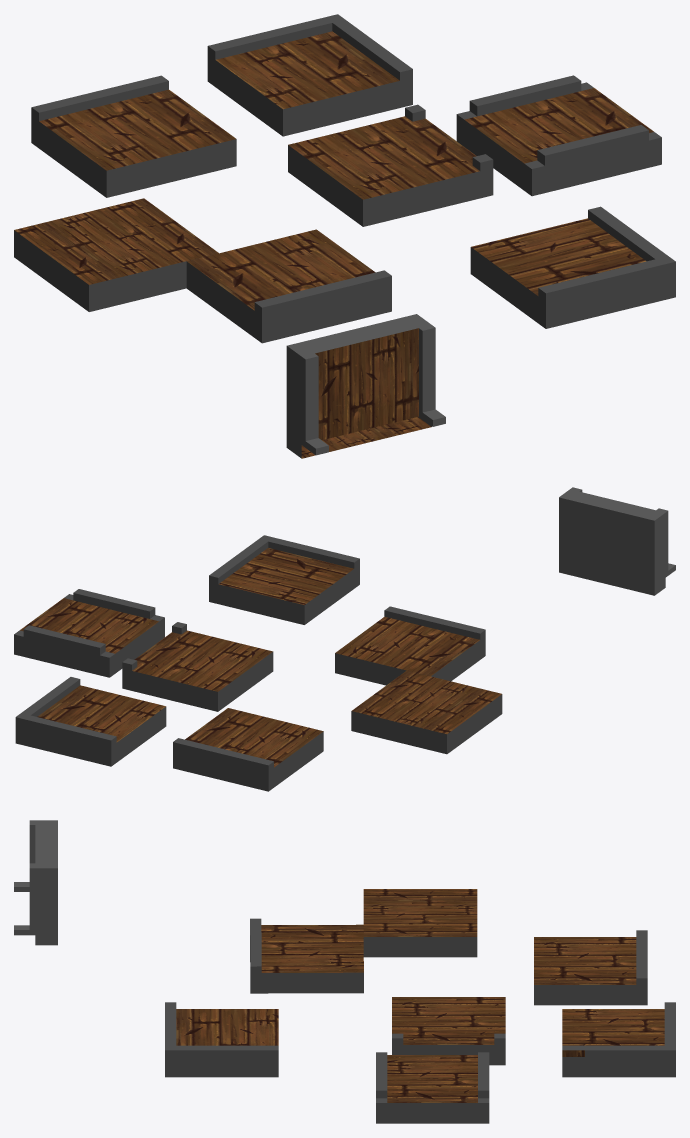
The model's file is CastleCorridor 1.fbx.
3 views of the same model, one above another, from view 1: azimuth 30°, elevation 25°; view 2: azimuth 150°, elevation 25°; view 3: azimuth 270°, elevation 25° (orthographic). The views are drawn at different scales.
Parts seen in each view (by area): view 1: Wall.004, CorridorFloor.TurnR, CorridorFloor.Side, CorridorFloor.Forward, CorridorFloor.TurnL, CorridorFloor.Exit, CorridorFloor.Side.001, CorridorFloor.Middle; view 2: Wall.004, CorridorFloor.TurnL, CorridorFloor.Forward, CorridorFloor.TurnR, CorridorFloor.Exit, CorridorFloor.Side, CorridorFloor.Middle, CorridorFloor.Side.001; view 3: CorridorFloor.Side.001, CorridorFloor.Side, CorridorFloor.TurnL, CorridorFloor.TurnR, CorridorFloor.Forward, CorridorFloor.Middle, CorridorFloor.Exit, Wall.004.
Part boxes in pixels (x1,y1,x2,y2): Wall.004: (286, 314, 445, 458); CorridorFloor.TurnR: (207, 14, 412, 136); CorridorFloor.Side: (31, 75, 236, 197); CorridorFloor.Forward: (456, 75, 661, 196); CorridorFloor.TurnL: (470, 206, 675, 328); CorridorFloor.Exit: (288, 104, 493, 226); CorridorFloor.Side.001: (186, 229, 391, 343); CorridorFloor.Middle: (14, 198, 218, 311); Wall.004: (559, 487, 675, 595); CorridorFloor.TurnL: (209, 535, 359, 624); CorridorFloor.Forward: (14, 589, 164, 677); CorridorFloor.TurnR: (15, 677, 166, 766); CorridorFloor.Exit: (122, 622, 273, 711); CorridorFloor.Side: (173, 708, 323, 791); CorridorFloor.Middle: (351, 670, 502, 754); CorridorFloor.Side.001: (335, 606, 485, 685); CorridorFloor.Side.001: (250, 918, 363, 993); CorridorFloor.Side: (534, 930, 647, 1005); CorridorFloor.TurnL: (165, 1002, 278, 1077); CorridorFloor.TurnR: (562, 1002, 675, 1077); CorridorFloor.Forward: (376, 1052, 489, 1123); CorridorFloor.Middle: (363, 889, 477, 957); CorridorFloor.Exit: (392, 997, 505, 1065); Wall.004: (14, 820, 57, 945).
Bounding box in the file's own units: 18 × 3.4 × 23.32.
4 materials, 2 textured.
